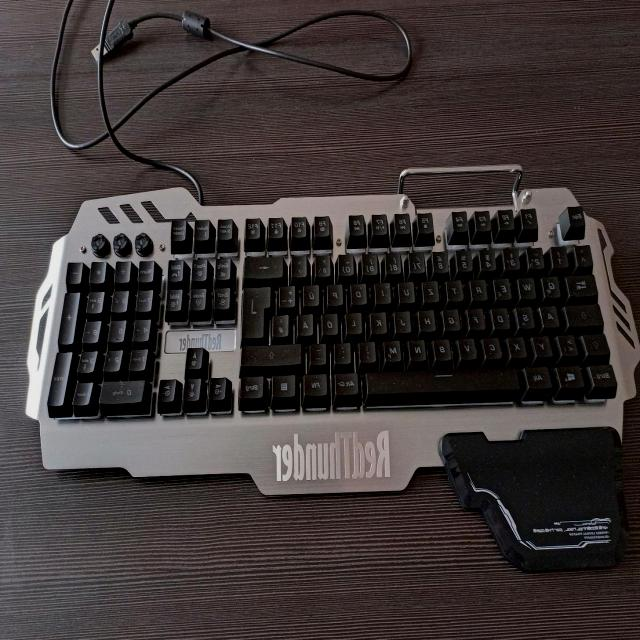0: (339, 251, 357, 275)
1: (552, 243, 572, 267)
2: (529, 244, 547, 268)
3: (504, 245, 523, 269)
4: (481, 246, 499, 270)
5: (457, 247, 475, 271)
6: (433, 248, 451, 272)
7: (411, 248, 428, 273)
8: (387, 250, 405, 274)
9: (363, 251, 381, 275)
a: (542, 302, 562, 326)
accent: (293, 252, 309, 276)
ae: (298, 311, 316, 335)
alt-left: (526, 363, 555, 388)
altgr-right: (336, 370, 362, 394)
b: (434, 336, 454, 360)
c: (484, 334, 504, 358)
caret: (576, 242, 594, 266)
comma: (360, 338, 378, 361)
d: (493, 304, 512, 328)
del: (245, 254, 286, 278)
e: (496, 275, 514, 299)
enter: (244, 284, 274, 338)
f: (469, 305, 488, 329)
g: (445, 306, 463, 330)
h: (420, 306, 438, 330)
hash: (273, 311, 291, 335)
i: (376, 279, 394, 302)
j: (395, 308, 413, 332)
k: (371, 309, 389, 333)
keyboard: (38, 200, 622, 424)
l: (348, 309, 365, 333)
less: (559, 331, 581, 355)
m: (385, 338, 405, 362)
minus: (312, 341, 329, 364)
n: (410, 336, 429, 360)
o: (352, 281, 370, 303)
oe: (323, 310, 340, 334)
p: (328, 282, 345, 304)
plus: (281, 282, 298, 306)
point: (335, 340, 353, 363)
q: (543, 273, 563, 296)
r: (472, 276, 490, 299)
s: (517, 304, 537, 328)
shift-left: (583, 331, 613, 355)
shift-lock: (565, 302, 605, 326)
shift-right: (243, 341, 305, 364)
space: (366, 368, 524, 398)
ss: (316, 253, 334, 276)
strg-left: (589, 361, 620, 387)
strg-right: (240, 373, 267, 399)
t: (448, 277, 466, 300)
tab: (567, 273, 600, 297)
u: (399, 279, 417, 302)
ue: (306, 281, 322, 305)
v: (459, 335, 479, 359)
w: (520, 274, 538, 298)
x: (509, 334, 529, 357)
y: (533, 332, 555, 356)
z: (424, 278, 442, 301)
